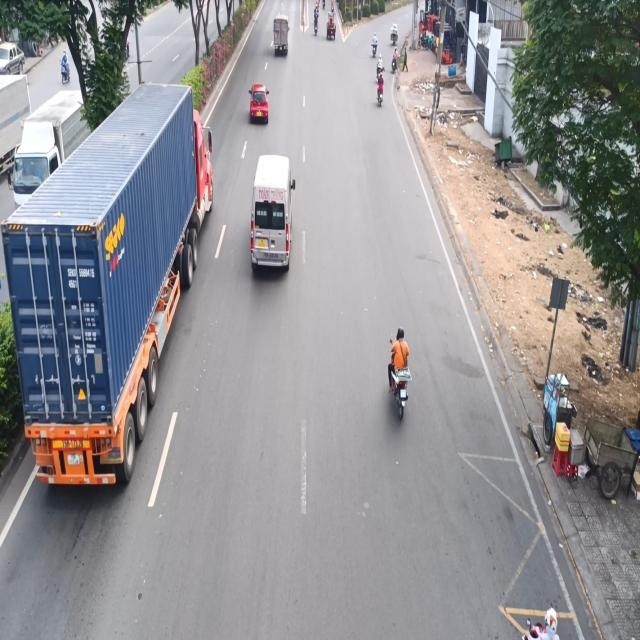car: (248, 72, 270, 125)
motor: (386, 326, 412, 420), (374, 68, 385, 112), (369, 30, 379, 61)
truck: (12, 69, 220, 503), (250, 149, 292, 278), (270, 5, 294, 56)
